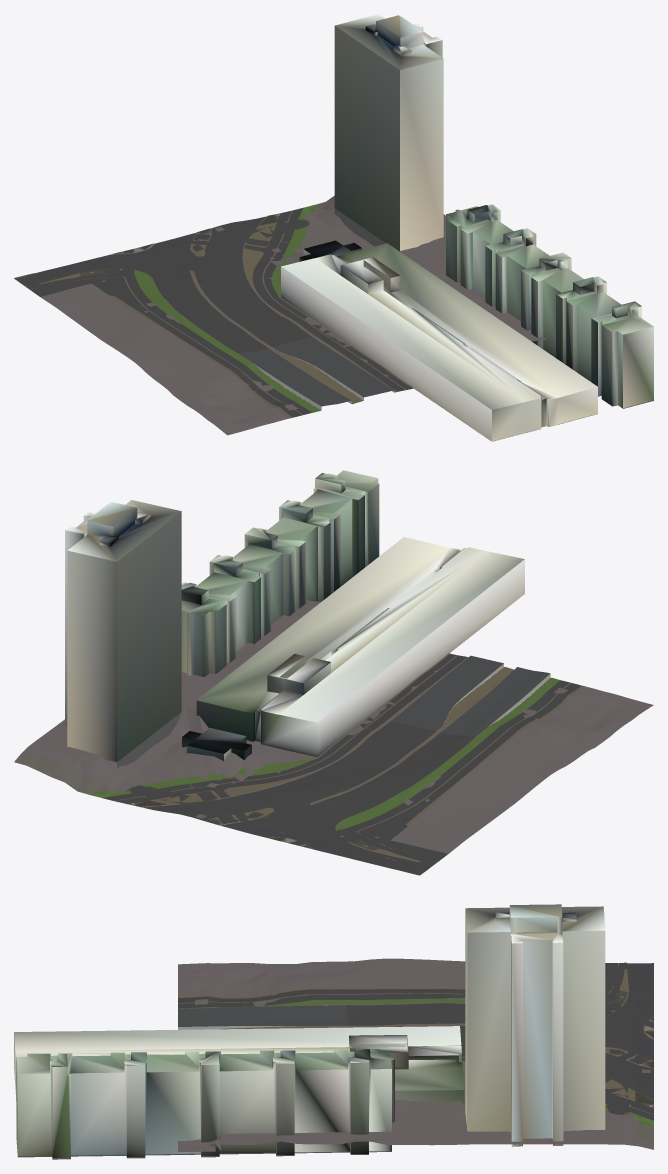
3 renders of one model, top to bottom at view 1: azimuth 30°, elevation 25°; view 2: azimuth 150°, elevation 25°; view 3: azimuth 270°, elevation 25°, orthographic. The views are drawn at different scales.
Parts seen in each view (by area): view 1: append:c_p02_m09, c_p02_m09; view 2: append:c_p02_m09, c_p02_m09; view 3: append:c_p02_m09, c_p02_m09.
Boxes of the visible parts, bbox=[...] form: append:c_p02_m09: bbox=[22, 14, 546, 435]; c_p02_m09: bbox=[14, 196, 653, 441]; append:c_p02_m09: bbox=[23, 500, 653, 868]; c_p02_m09: bbox=[14, 470, 550, 875]; append:c_p02_m09: bbox=[178, 904, 635, 1151]; c_p02_m09: bbox=[14, 963, 653, 1159].
Bounding box in the file's own units: 128 × 70.03 × 172.
